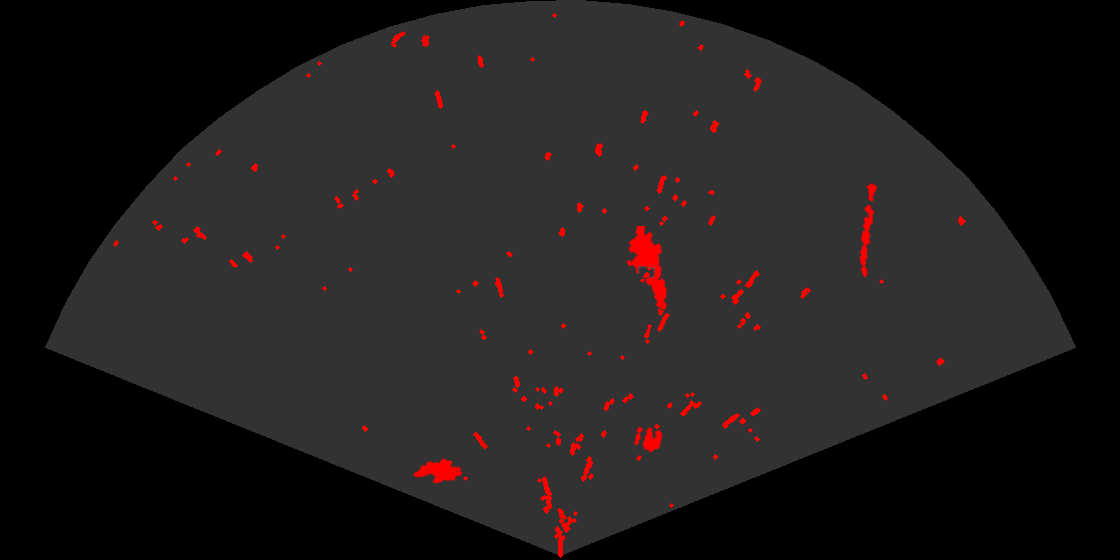AUV: (411, 457, 464, 485)
ball: (633, 425, 664, 454)
chain: (858, 181, 879, 278)
frogman: (625, 226, 669, 311)
